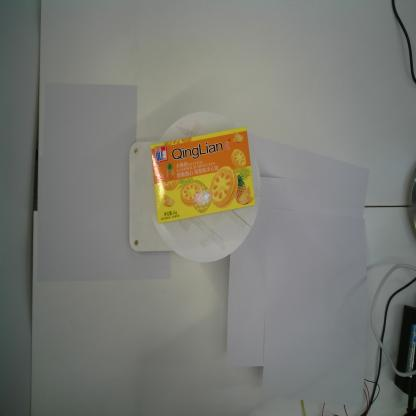Dessert: (148, 124, 256, 224)
